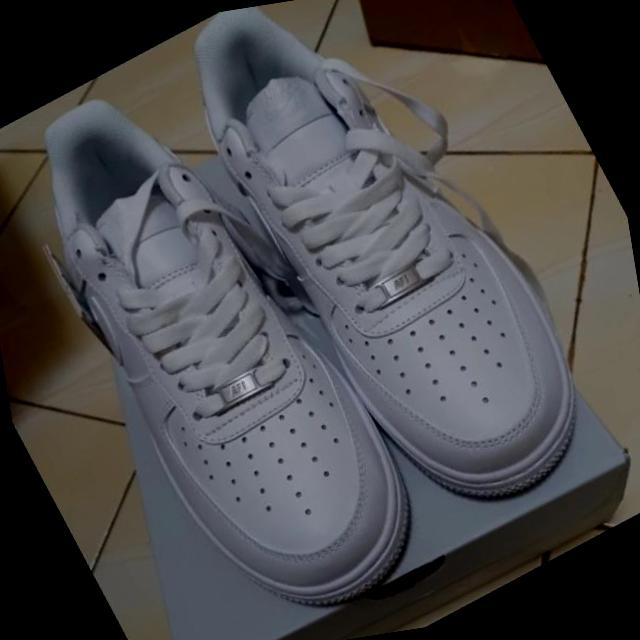nike_original_airforce: (0, 21, 454, 640), (148, 0, 621, 566)
